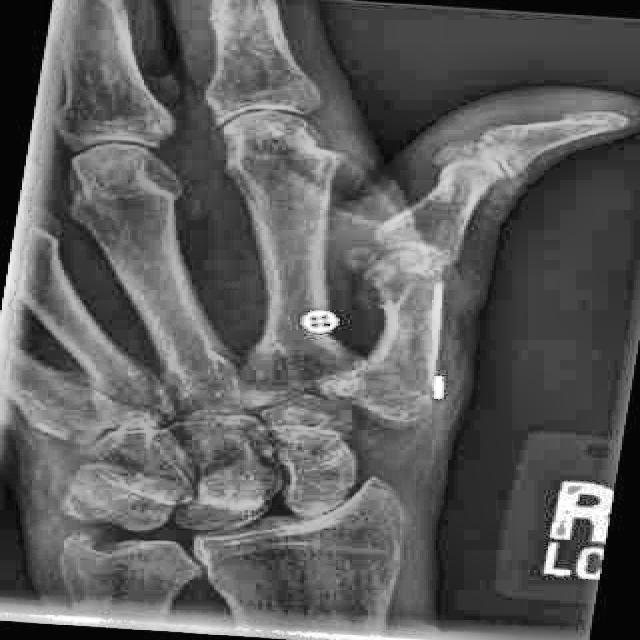fingers positive: (410, 124, 515, 197)
